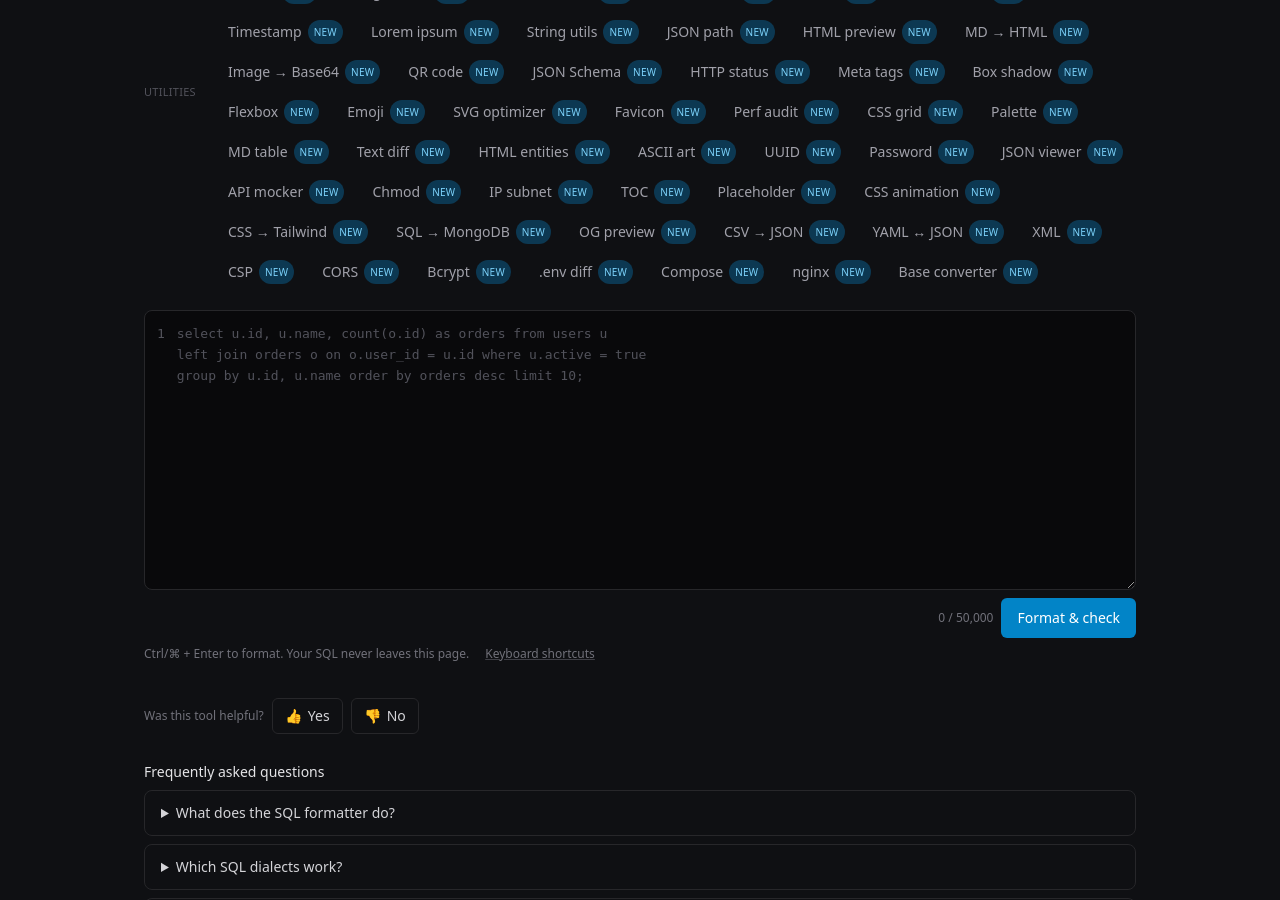
it: SqlPage › formats a query and reports no problems
This screenshot has width=1280, height=900.
(page scrolled)
Replace the text in the text box with test id "sql-in" with "select id from users where active = true" at (654, 450), box [173,311,1135,588]
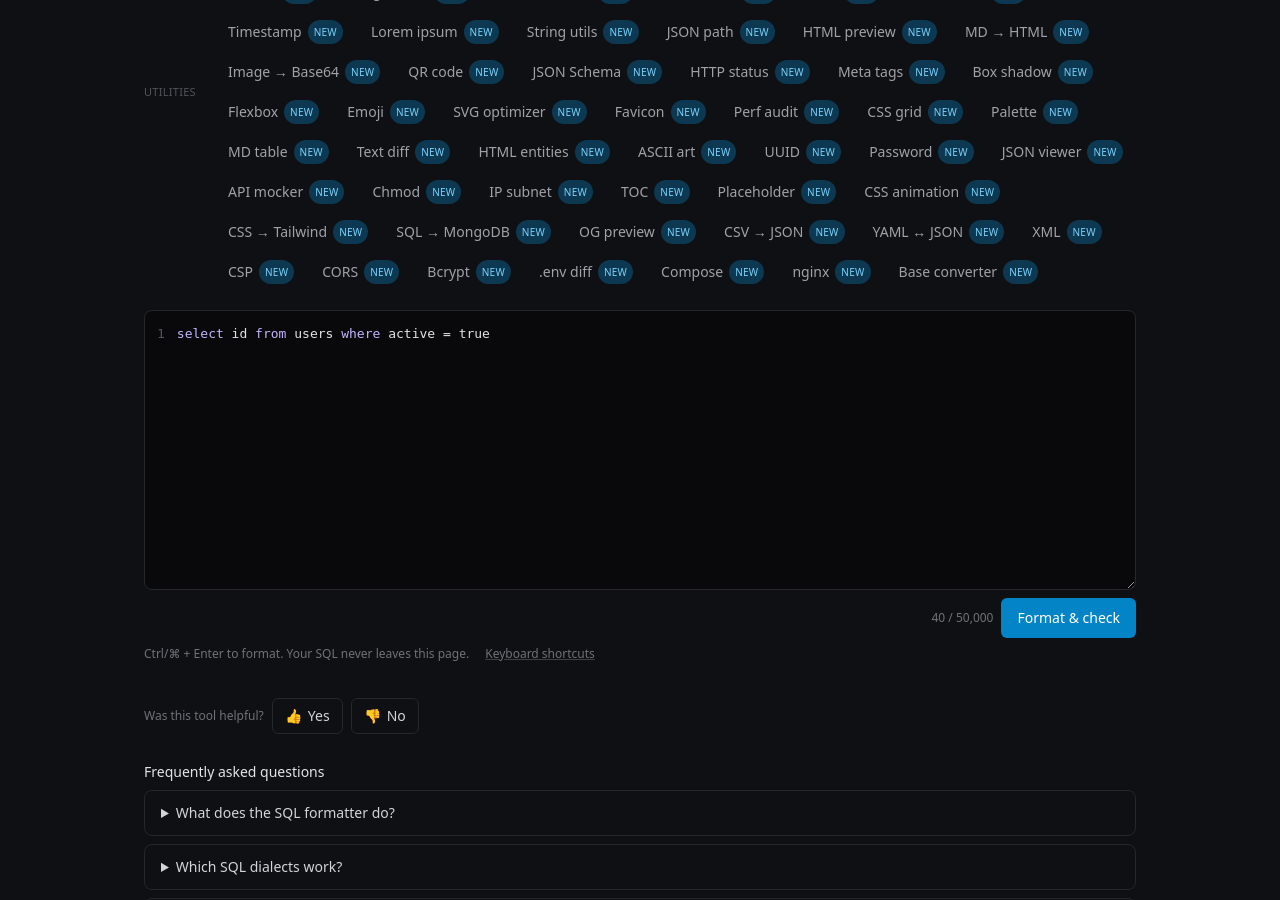
Click the button with test id "sql-run" at (1069, 618), box [1002,598,1136,638]
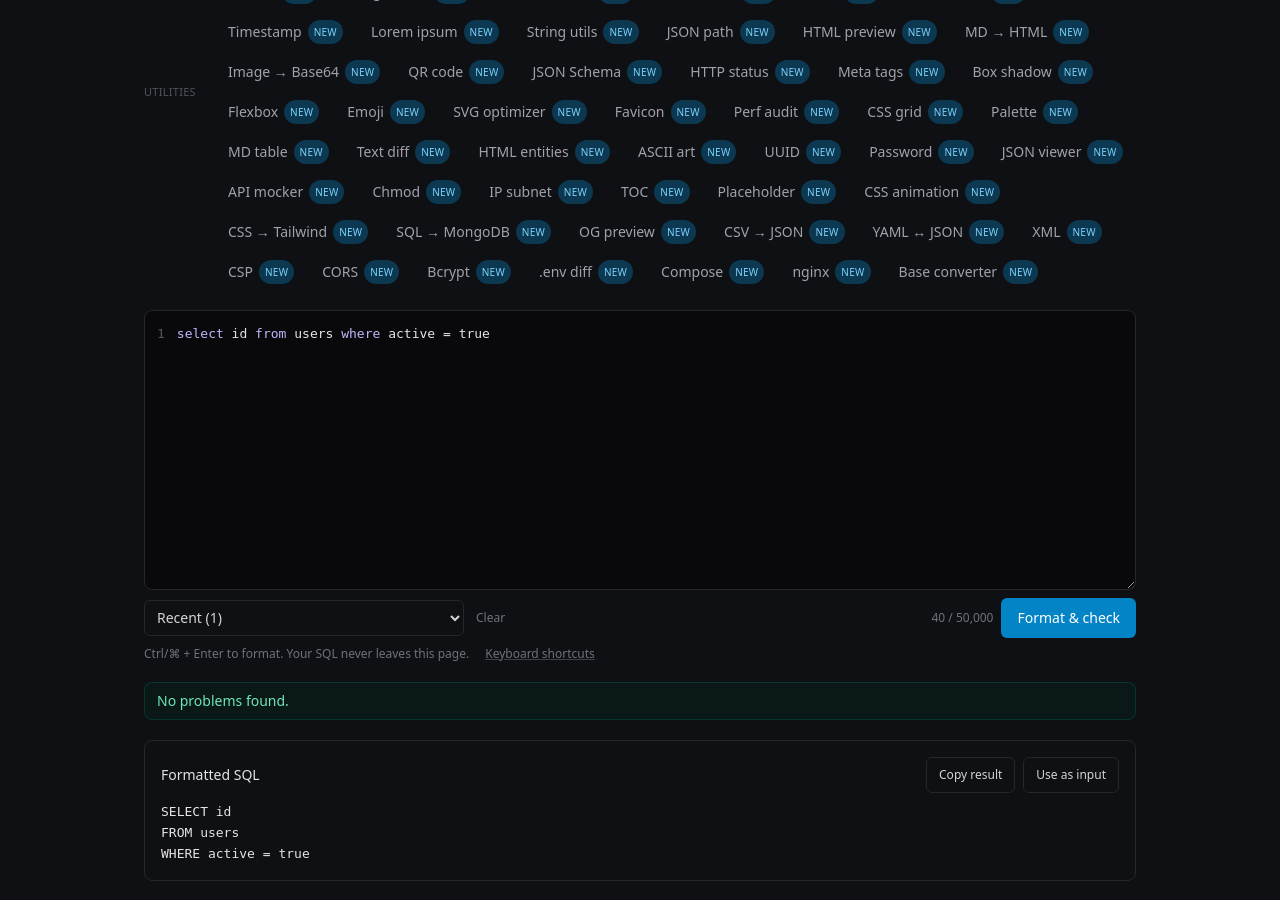
expect the text "No problems found." is shown: met, box [144,682,1136,720]
